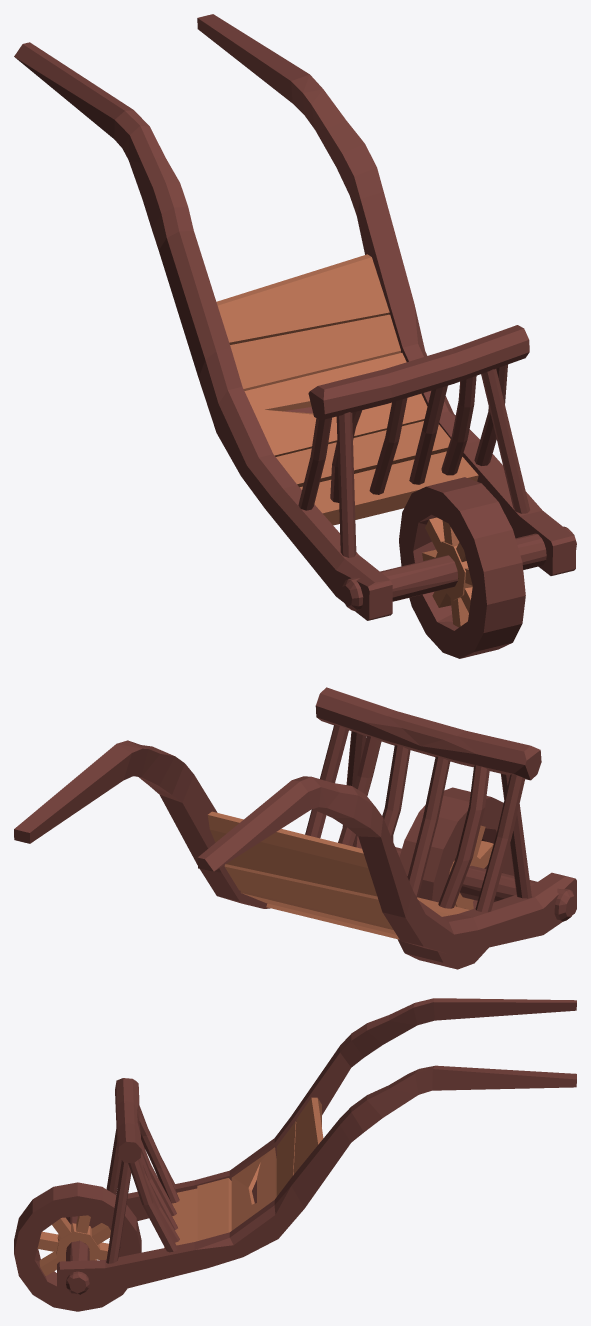
File: Wheelbarrow.fbx
The picture shows the model from 3 angles, top to bottom: view 1: azimuth 30°, elevation 25°; view 2: azimuth 150°, elevation 25°; view 3: azimuth 270°, elevation 25°; orthographic projection. The views are drawn at different scales.
Visible parts, largest first — view 1: Wheelbarrow 01, Wheelbarrow 01 Wheel; view 2: Wheelbarrow 01, Wheelbarrow 01 Wheel; view 3: Wheelbarrow 01, Wheelbarrow 01 Wheel.
Boxes of the visible parts, bbox=[...] form: Wheelbarrow 01: bbox=[14, 14, 576, 620]; Wheelbarrow 01 Wheel: bbox=[399, 477, 525, 658]; Wheelbarrow 01: bbox=[14, 687, 576, 953]; Wheelbarrow 01 Wheel: bbox=[397, 787, 513, 969]; Wheelbarrow 01: bbox=[57, 998, 576, 1294]; Wheelbarrow 01 Wheel: bbox=[14, 1182, 141, 1311].
Size of the model in its own units: 72.74 by 117 by 218.
